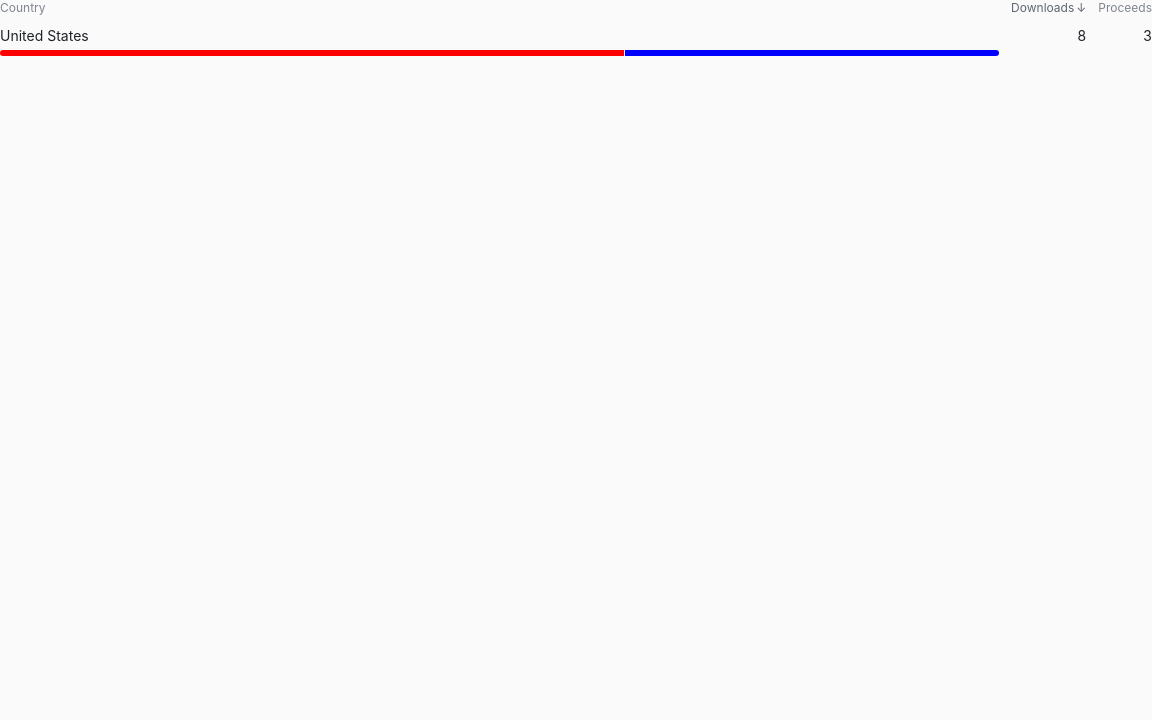
Scenario: a ranked list told apart by app › opens a row's apps, ranked, with its figures
Click the button with aria-label "United States: each app" at (44, 36), box [0,26,999,56]
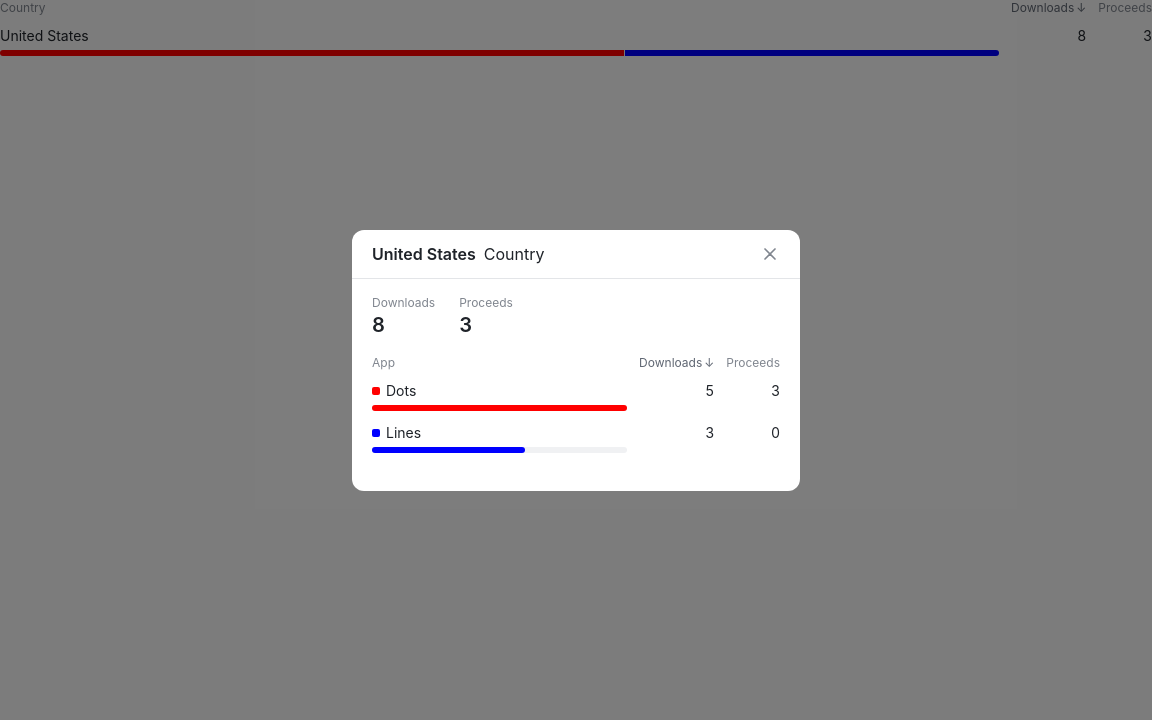
expect the heading "United States" is shown: met, box [372,242,476,266]
